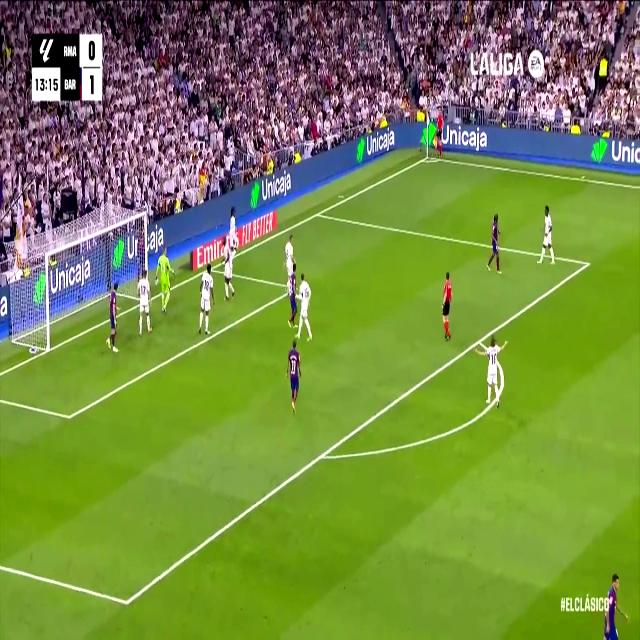bigarea_bottom_inner: (118, 583, 134, 619)
bigarea_top_inner: (583, 253, 592, 274)
bigarea_top_outter: (314, 205, 322, 221)
bottom_arc_area_intersection: (316, 438, 330, 471)
corner: (422, 152, 431, 164)
smallarea_bottom_inner: (64, 403, 75, 429)
